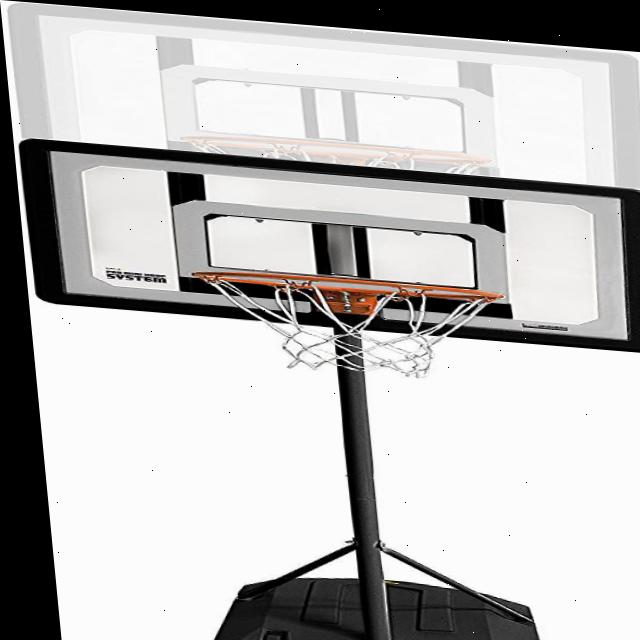hoop: (190, 265, 514, 387)
